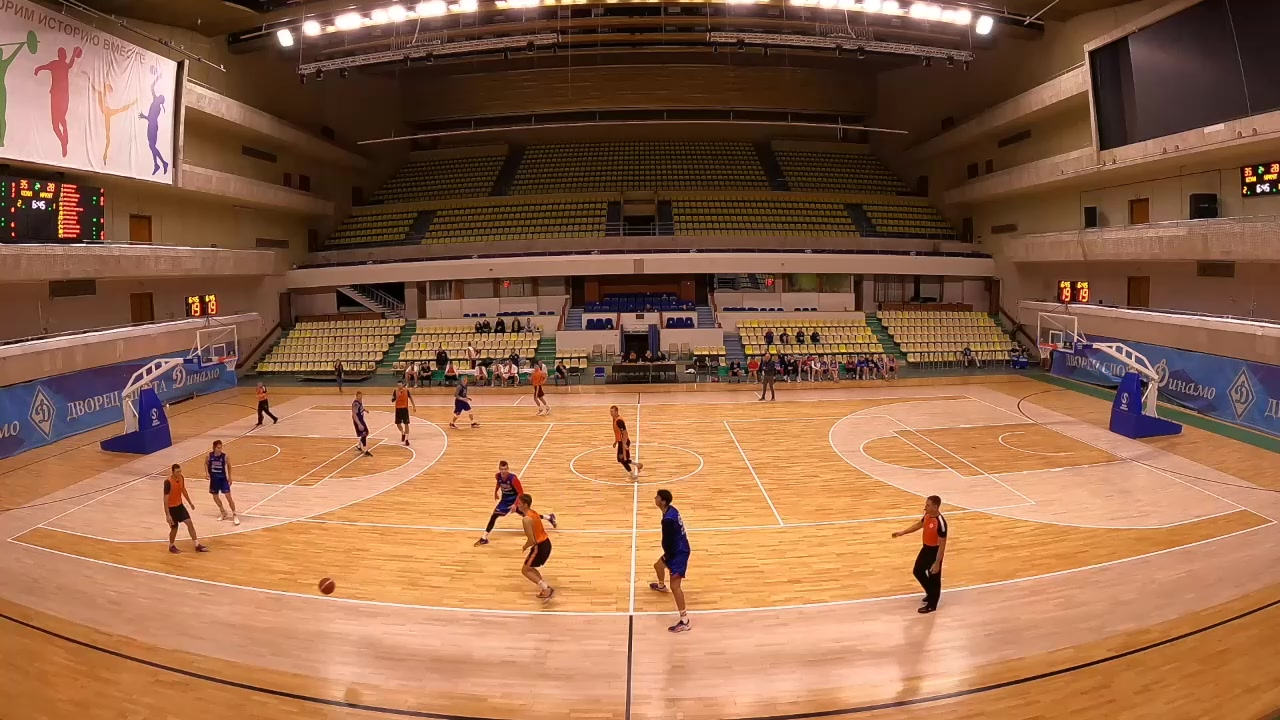basketball: (115, 590, 142, 620)
